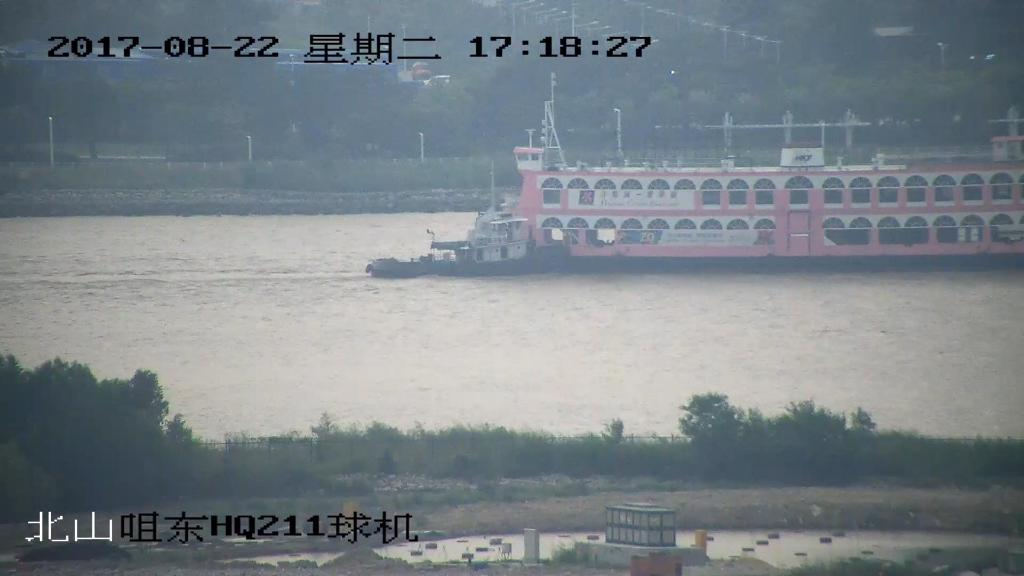PassengerShip: (498, 106, 1024, 283)
